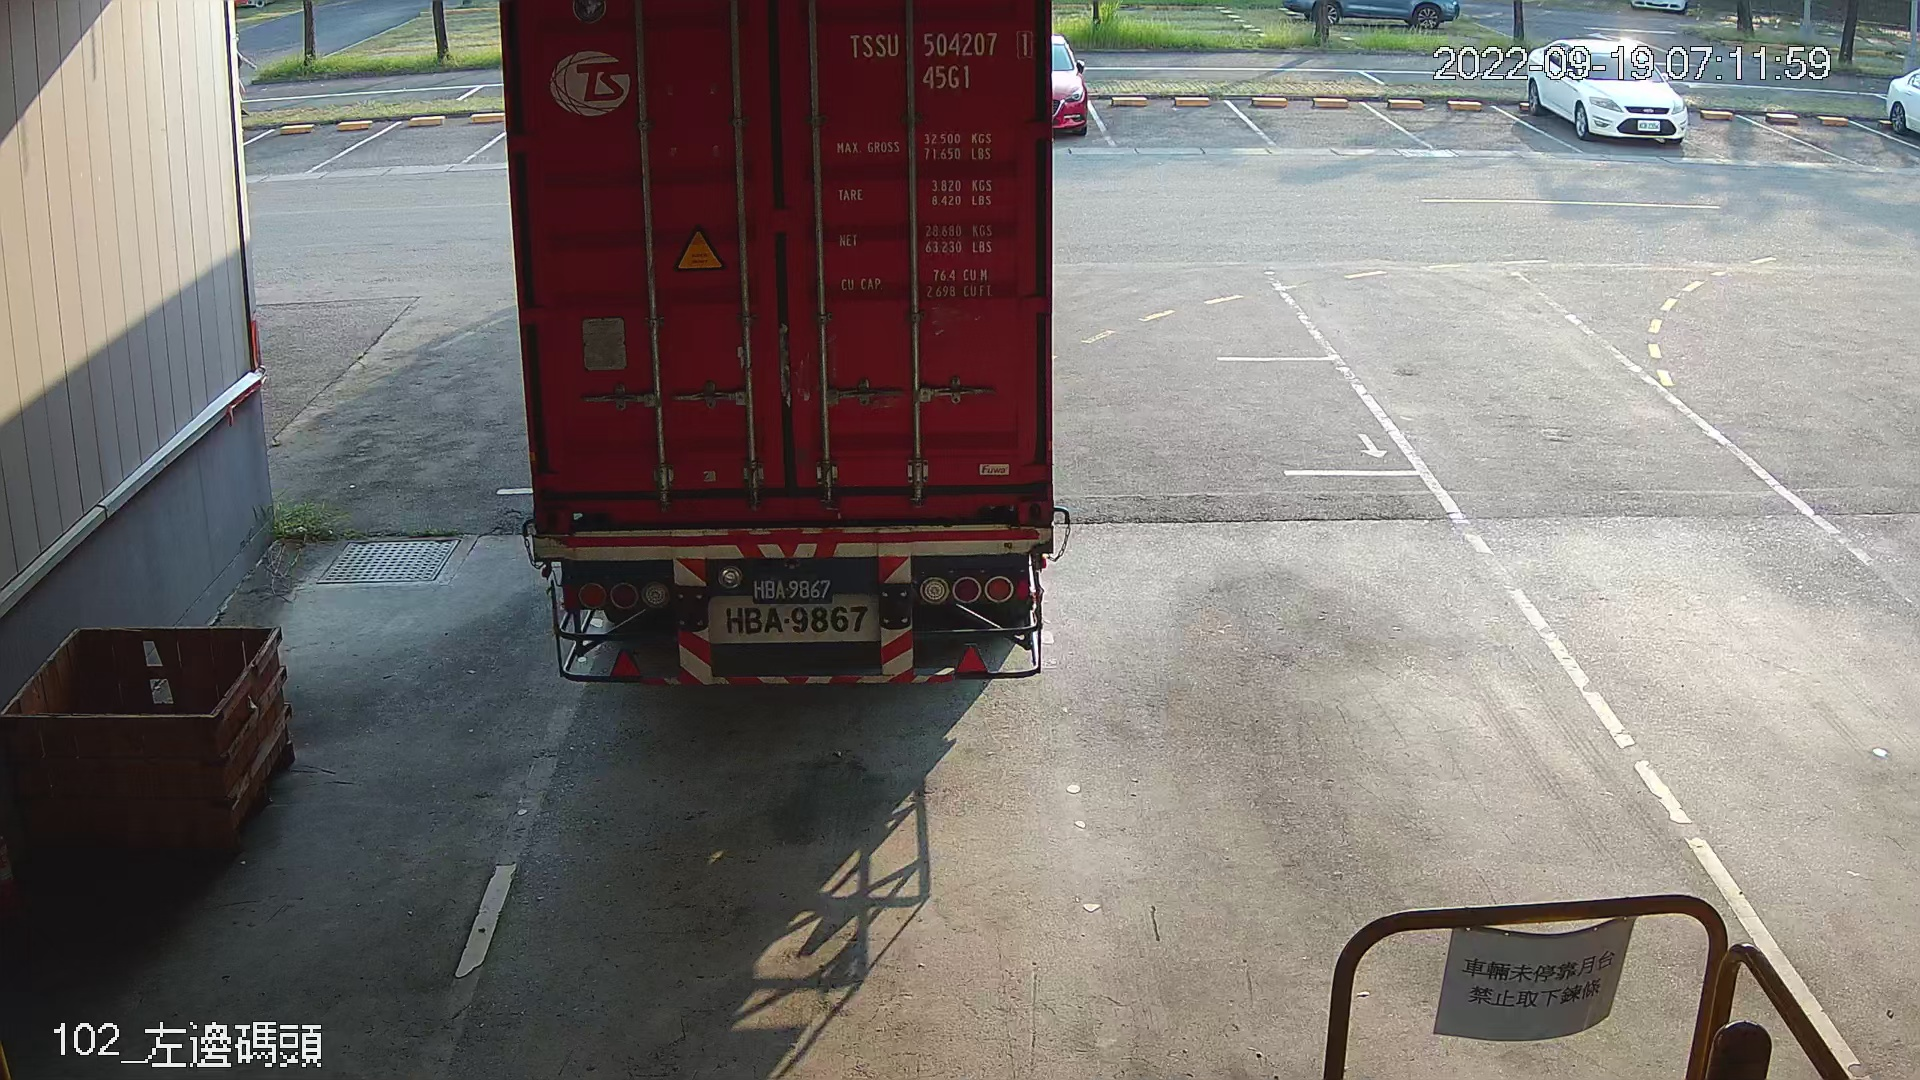container: (843, 20, 1042, 99)
